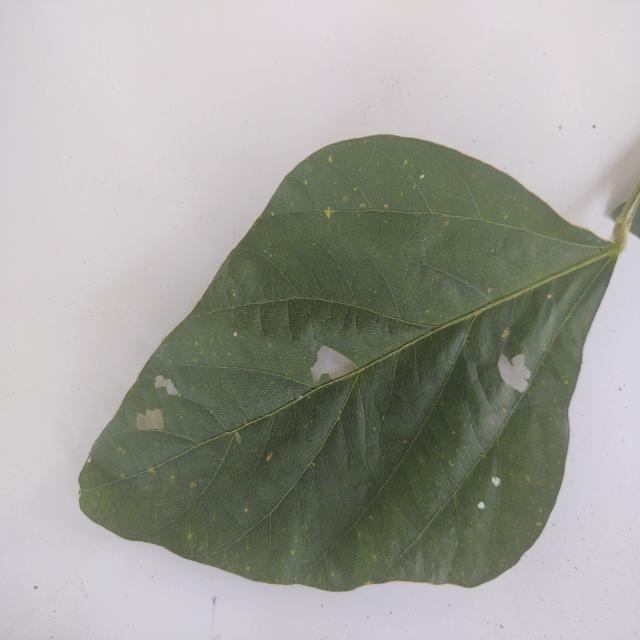Soybean: (76, 133, 640, 596)
downey_mildew: (367, 331, 566, 586), (161, 300, 335, 397), (406, 349, 501, 502), (350, 435, 445, 585), (370, 142, 501, 242), (462, 165, 606, 252), (317, 219, 434, 320), (393, 210, 510, 305), (157, 362, 312, 432), (422, 224, 499, 351), (320, 331, 434, 406), (472, 226, 608, 287), (534, 256, 609, 345), (86, 429, 207, 483), (288, 297, 401, 351), (318, 143, 401, 216), (453, 341, 510, 447), (219, 245, 304, 316), (496, 407, 549, 494), (270, 159, 336, 223), (463, 298, 512, 379), (315, 194, 373, 255), (418, 402, 462, 474), (189, 299, 306, 323), (334, 237, 368, 317), (239, 464, 272, 536), (527, 285, 559, 350), (351, 377, 371, 471), (258, 297, 294, 344), (417, 222, 435, 307), (405, 165, 435, 214)
